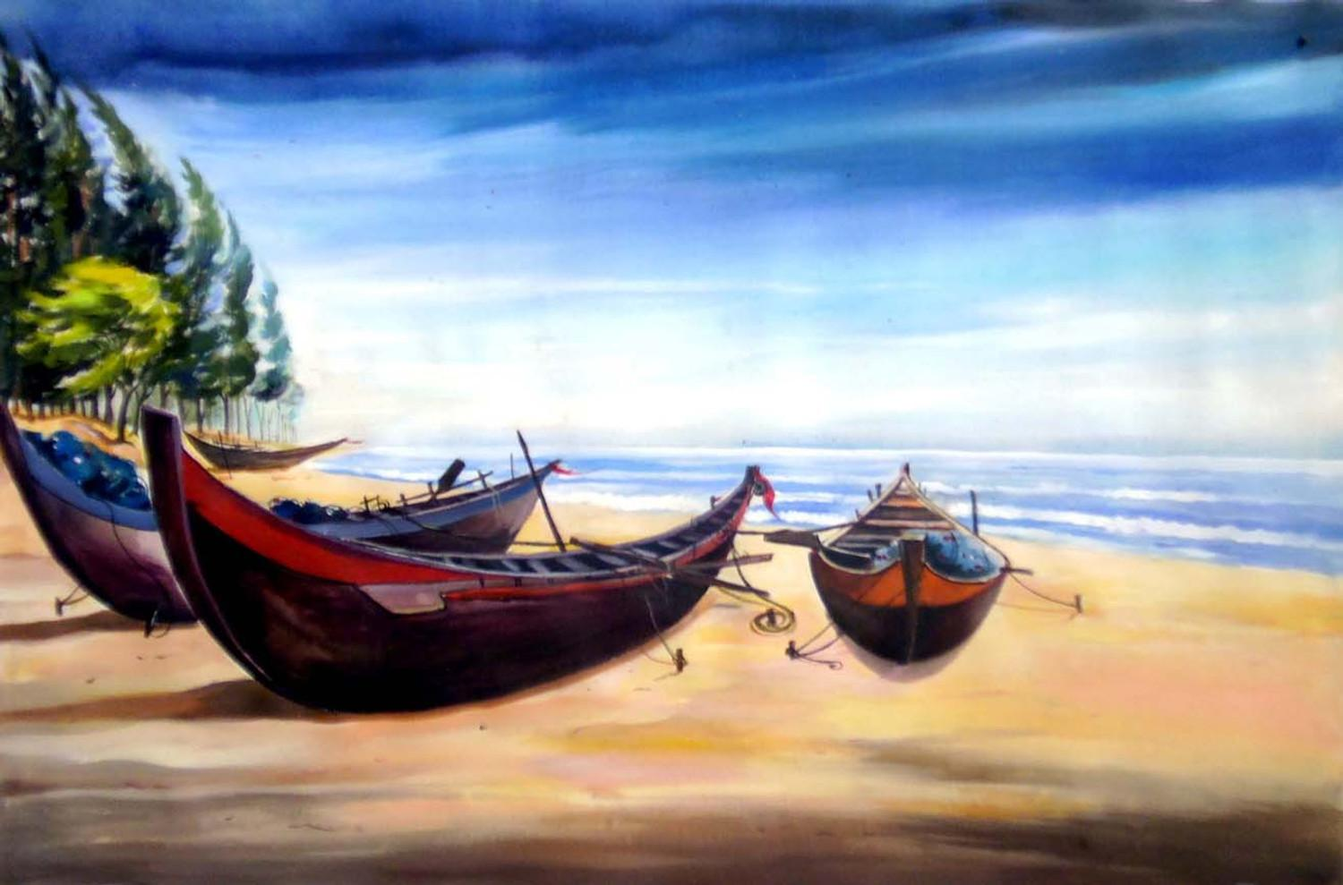fishing boat: (133, 390, 780, 716), (3, 350, 562, 600), (799, 402, 1016, 671), (179, 414, 357, 473)
